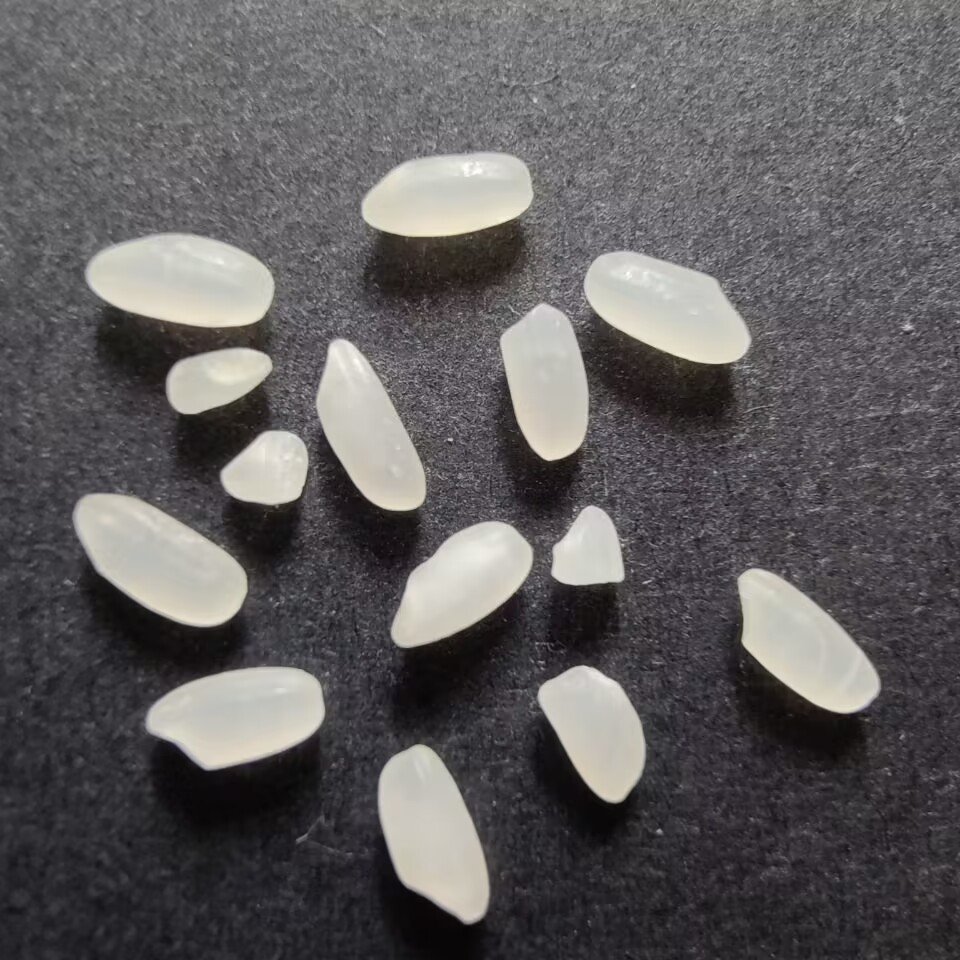broken: (536, 663, 651, 807), (163, 344, 275, 424), (544, 499, 629, 591), (218, 426, 311, 508)
rice: (68, 490, 252, 629), (730, 560, 886, 719), (372, 742, 496, 926), (579, 244, 755, 370), (310, 332, 429, 513), (137, 662, 325, 774), (81, 226, 277, 331), (386, 517, 537, 652), (354, 149, 537, 240), (499, 298, 593, 464)
